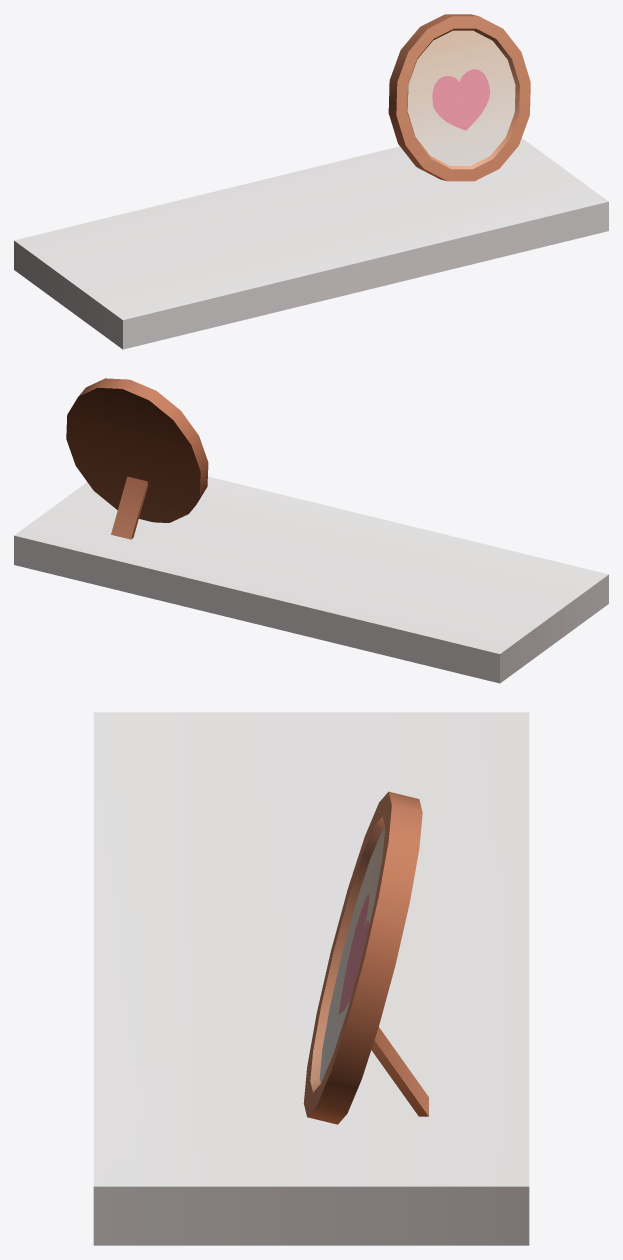
Rendered from Doll_OB_Shelf_004.FBX.
3 renders of one model, top to bottom at view 1: azimuth 30°, elevation 25°; view 2: azimuth 150°, elevation 25°; view 3: azimuth 270°, elevation 25°, orthographic. The views are drawn at different scales.
Parts seen in each view (by area): view 1: Doll_OB_Shelf_004; view 2: Doll_OB_Shelf_004; view 3: Doll_OB_Shelf_004.
Part boxes in pixels (x1,y1,x2,y2): Doll_OB_Shelf_004: [14, 14, 608, 349]; Doll_OB_Shelf_004: [14, 378, 608, 683]; Doll_OB_Shelf_004: [93, 712, 529, 1245].
Bounding box in the file's own units: 58.35 × 20.67 × 22.65.
